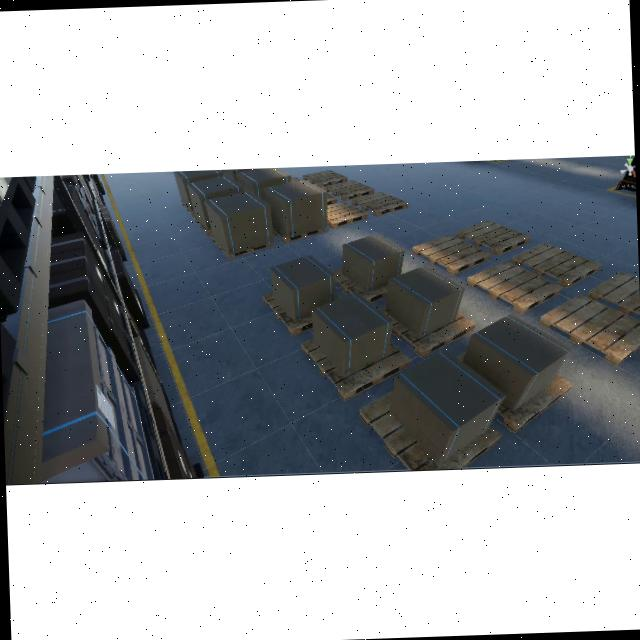wooden_pallet: (301, 338, 410, 400), (466, 260, 562, 313), (380, 308, 475, 358), (511, 242, 601, 288), (411, 234, 492, 275), (351, 190, 409, 216)
